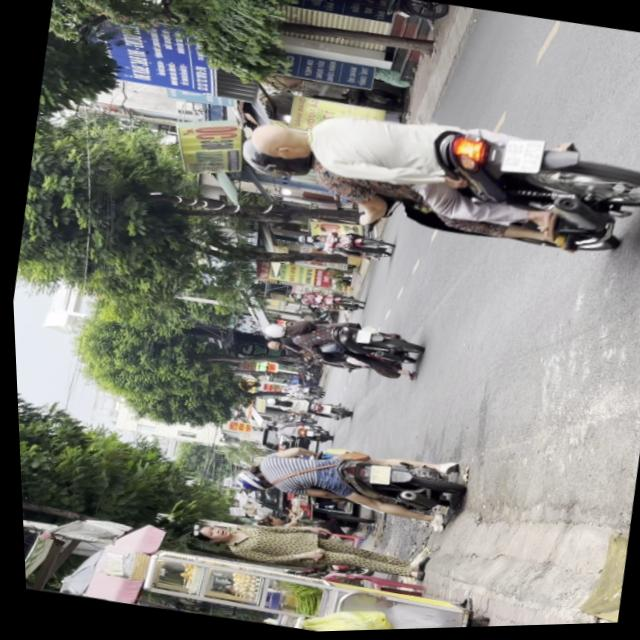helmet: (232, 135, 315, 186), (227, 463, 270, 494)
licenseplate: (222, 80, 640, 284), (211, 423, 465, 538)
motorcyclist: (244, 118, 313, 165)
nohelmet: (495, 137, 543, 180), (363, 465, 386, 487)
